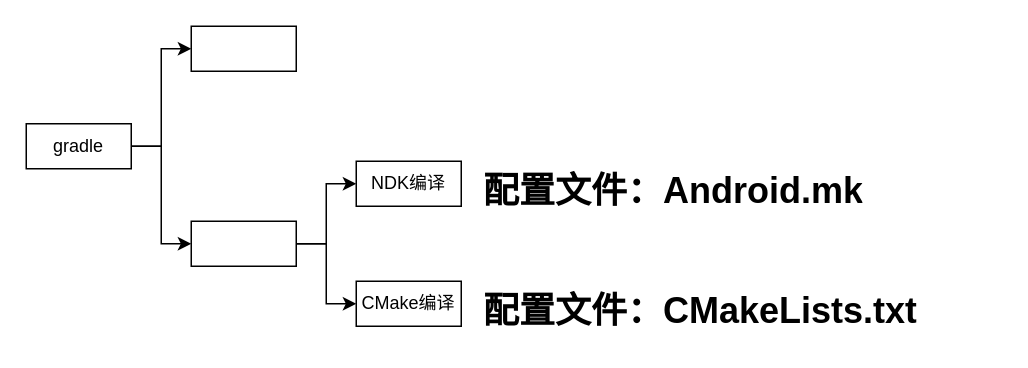
This 1028x368 diagram has some shape labels left out. The shapes that lost their labels are listed below. From the top down, each one's box as (x1, y1, x2, y2) in pixels, then its label:
(190, 25, 296, 71): Java
(190, 220, 296, 266): native
